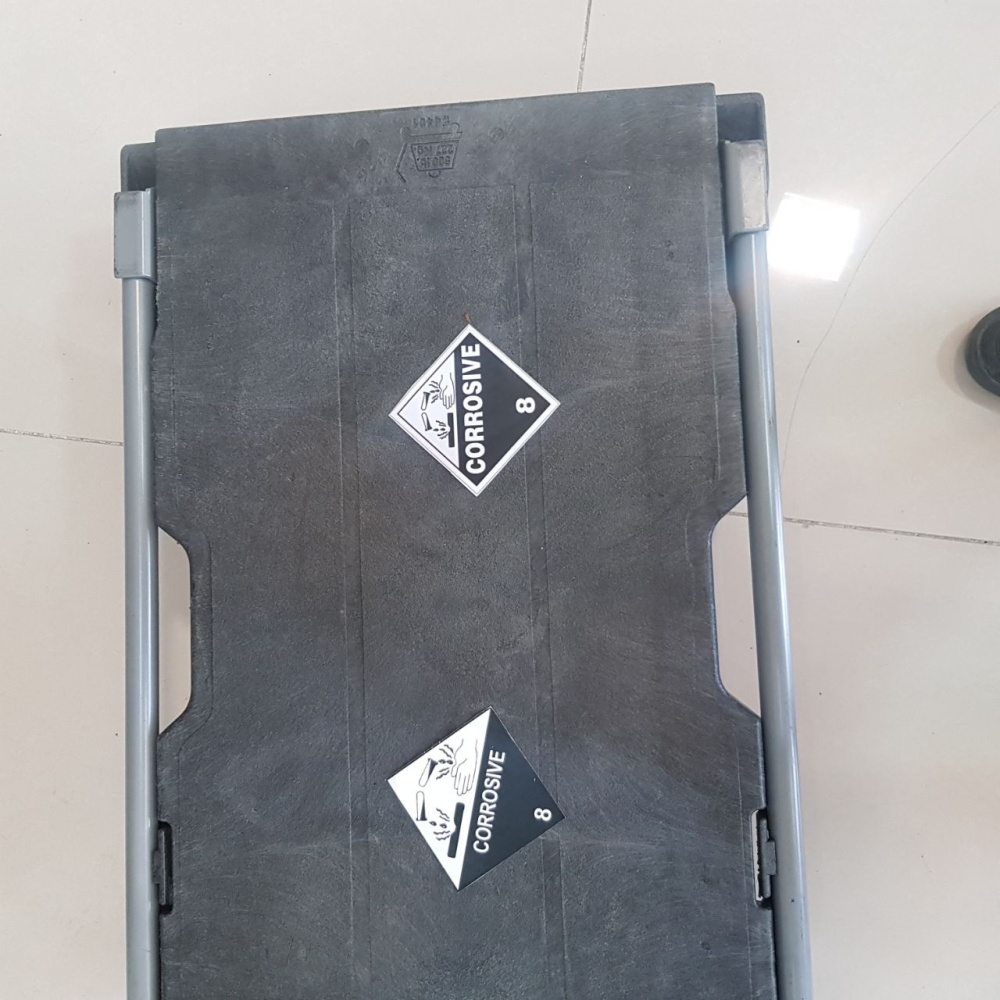Corrosive: (386, 705, 566, 892), (387, 324, 562, 497)
